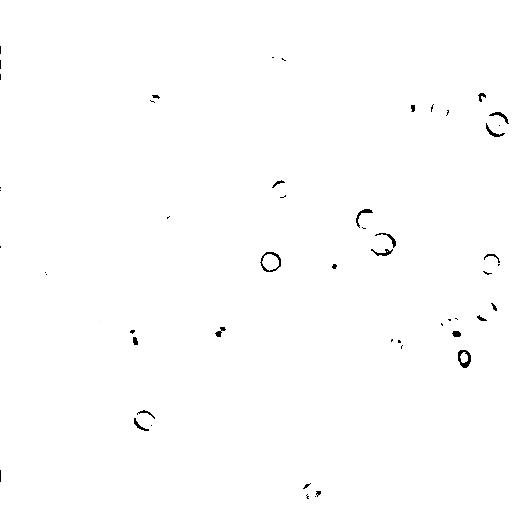micro-algae: (378, 231, 504, 353), (110, 12, 197, 105), (1, 305, 72, 393), (91, 358, 133, 398), (207, 323, 247, 354), (121, 321, 150, 352), (75, 317, 108, 344), (152, 195, 178, 226), (432, 306, 457, 336), (470, 298, 500, 323), (263, 55, 290, 81), (485, 110, 510, 138), (370, 232, 397, 257), (443, 322, 470, 347), (357, 207, 383, 232), (133, 409, 159, 432), (24, 267, 50, 289), (261, 249, 283, 274), (383, 336, 405, 361), (324, 254, 346, 278), (479, 251, 501, 275), (429, 101, 451, 124), (270, 179, 293, 201), (300, 482, 324, 501), (398, 97, 418, 119), (123, 234, 145, 254), (456, 348, 474, 369), (352, 0, 391, 9), (1, 243, 9, 277), (1, 49, 11, 75), (277, 504, 304, 512), (477, 91, 491, 105)
